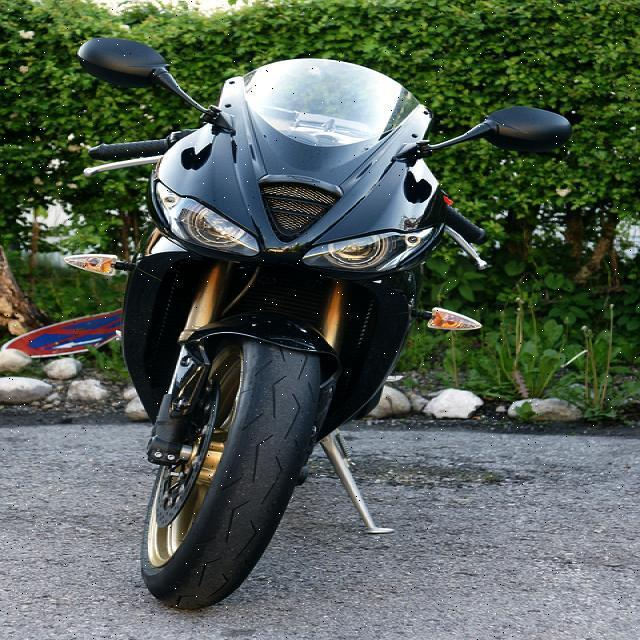motorcycle: (68, 32, 575, 611)
